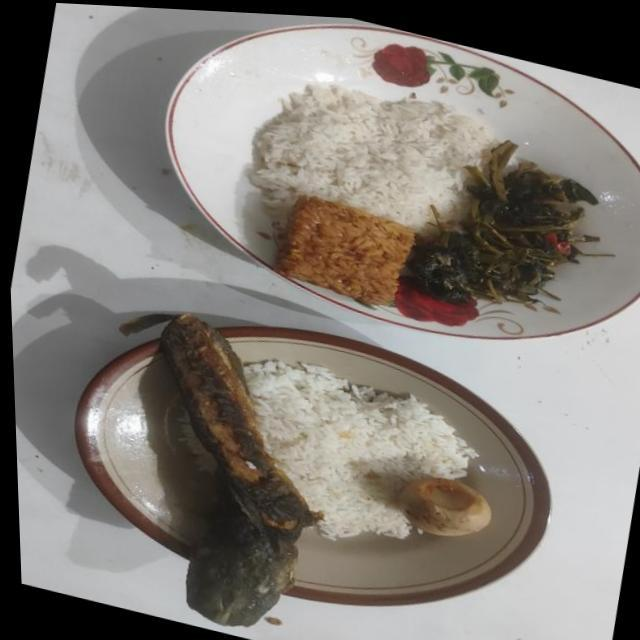nasi_putih: (244, 360, 477, 540), (248, 84, 498, 233)
tempe_goreng: (274, 196, 414, 306)
tumis_kangkung: (406, 141, 598, 307)
